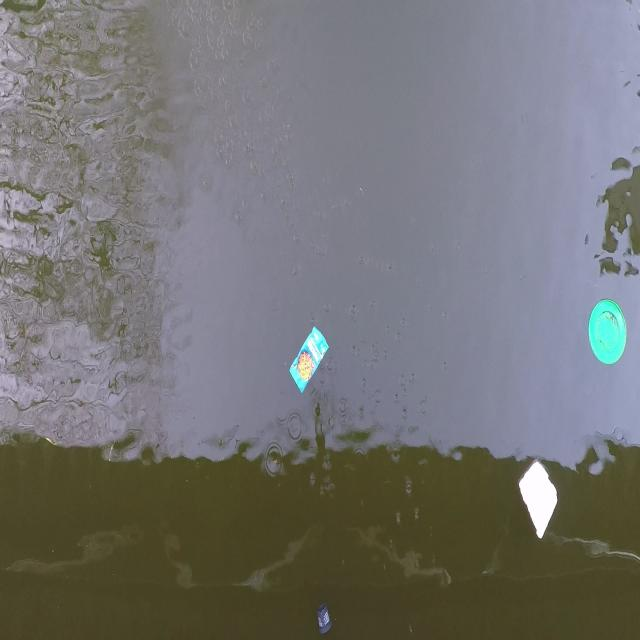Autre plastique: (286, 320, 336, 405), (586, 296, 630, 372), (314, 598, 336, 634)
